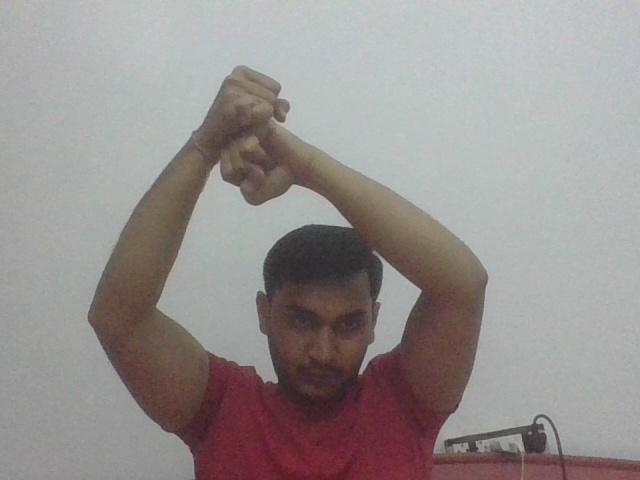S: (214, 63, 299, 211)
